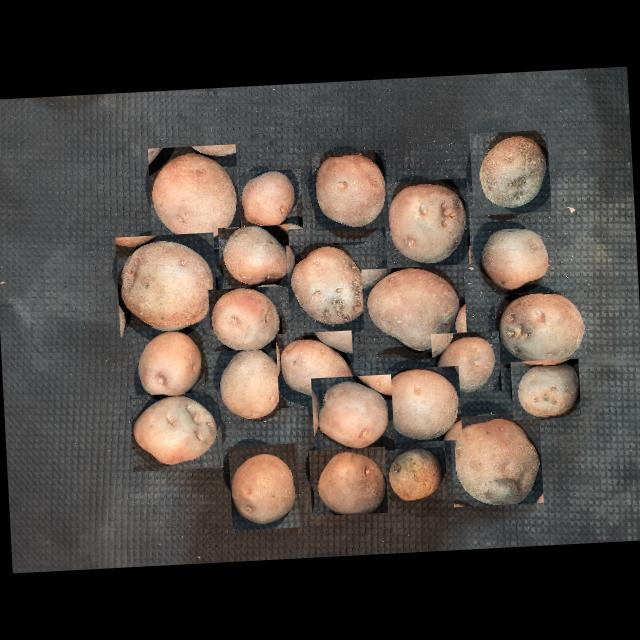Diseased-fungal potato: (115, 232, 218, 338), (148, 144, 241, 252), (362, 264, 468, 356), (449, 412, 544, 508), (286, 242, 379, 336), (383, 178, 471, 268), (130, 391, 223, 472), (494, 290, 588, 369), (469, 130, 552, 216), (311, 374, 395, 454), (312, 149, 389, 231), (382, 366, 462, 444), (228, 444, 300, 530), (276, 331, 356, 408), (130, 324, 206, 404), (309, 446, 388, 516), (477, 224, 558, 292), (218, 346, 285, 426), (208, 286, 284, 352), (218, 224, 291, 290), (431, 331, 502, 394), (511, 359, 582, 420), (238, 169, 303, 232), (382, 446, 448, 502)
